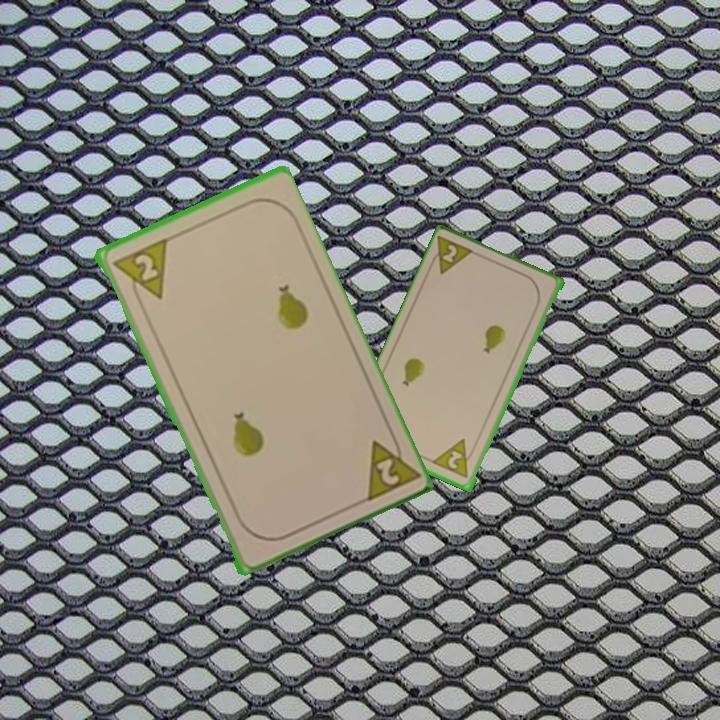2p: (358, 427, 420, 505), (108, 235, 170, 309), (425, 233, 478, 278), (444, 447, 466, 472)
